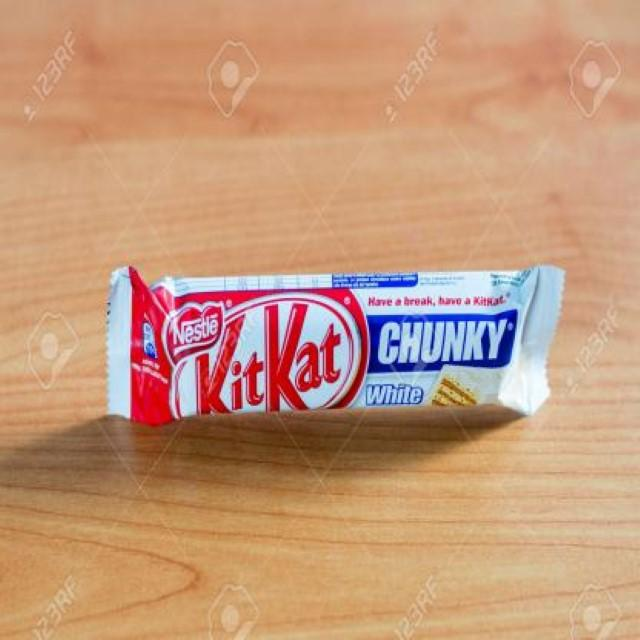kitkat_chocolate: (100, 245, 552, 450)
